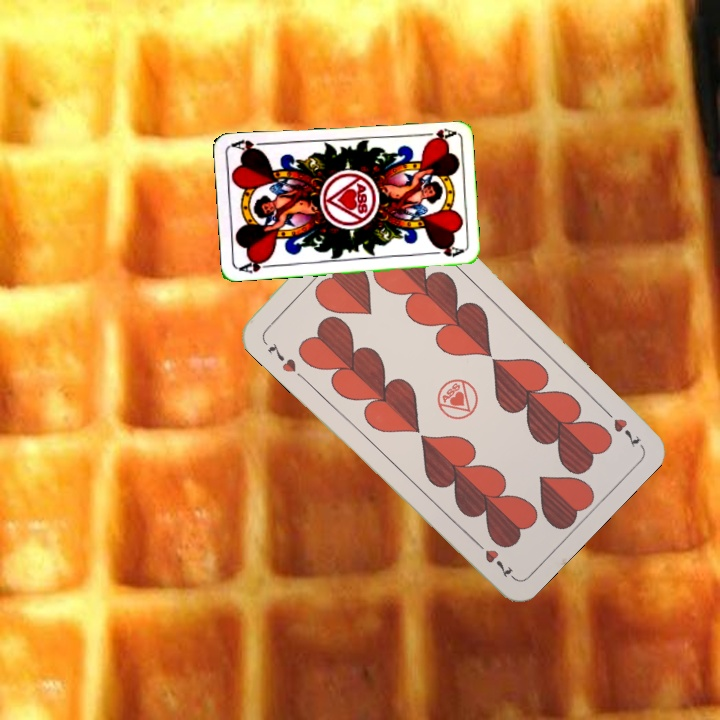H7: (597, 403, 644, 451), (263, 338, 299, 375)
HA: (236, 255, 276, 276), (416, 124, 457, 143)
